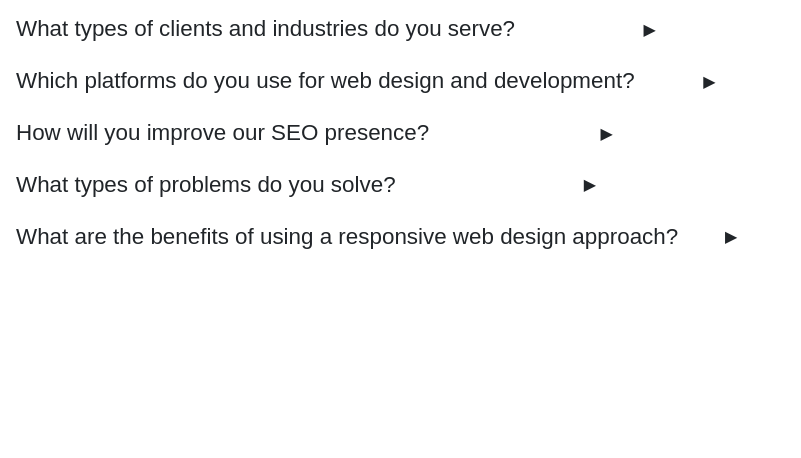
Test: AccordionComponent › toggles accordion item on click
This screenshot has width=801, height=458.
# Click to expand the first item
What coordinates should you click on to do the following:
click the button "What types of clients and industries do you serve?"
I would click on:
 (400, 29)
Its box is [16,16,784,43].
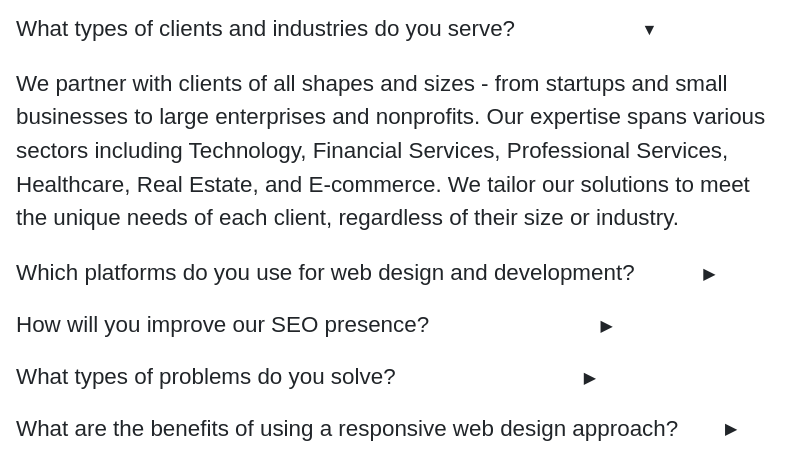
Now the text "We partner with clients of all shapes and sizes - from startups and small businesses to large enterprises and nonprofits" is shown, box [16,71,765,230]
# Click again to collapse the first item
What coordinates should you click on to do the following:
click the button "What types of clients and industries do you serve?"
I would click on:
 (400, 29)
Its box is [16,16,784,43].
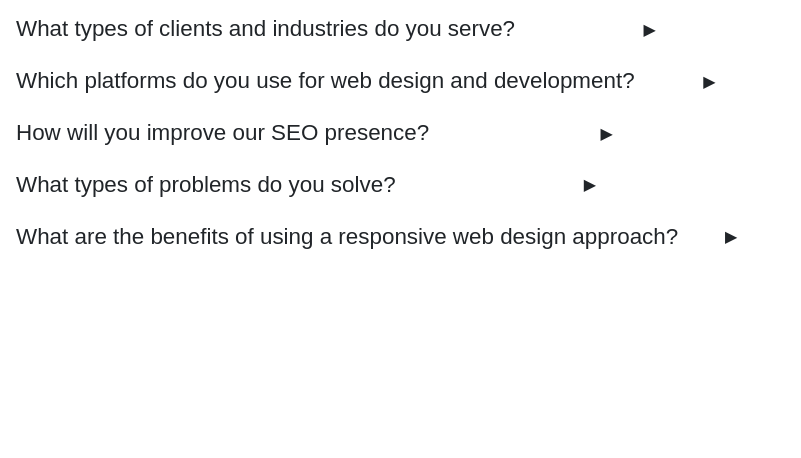
Now the text "We partner with clients of all shapes and sizes - from startups and small businesses to large enterprises and nonprofits" is gone
